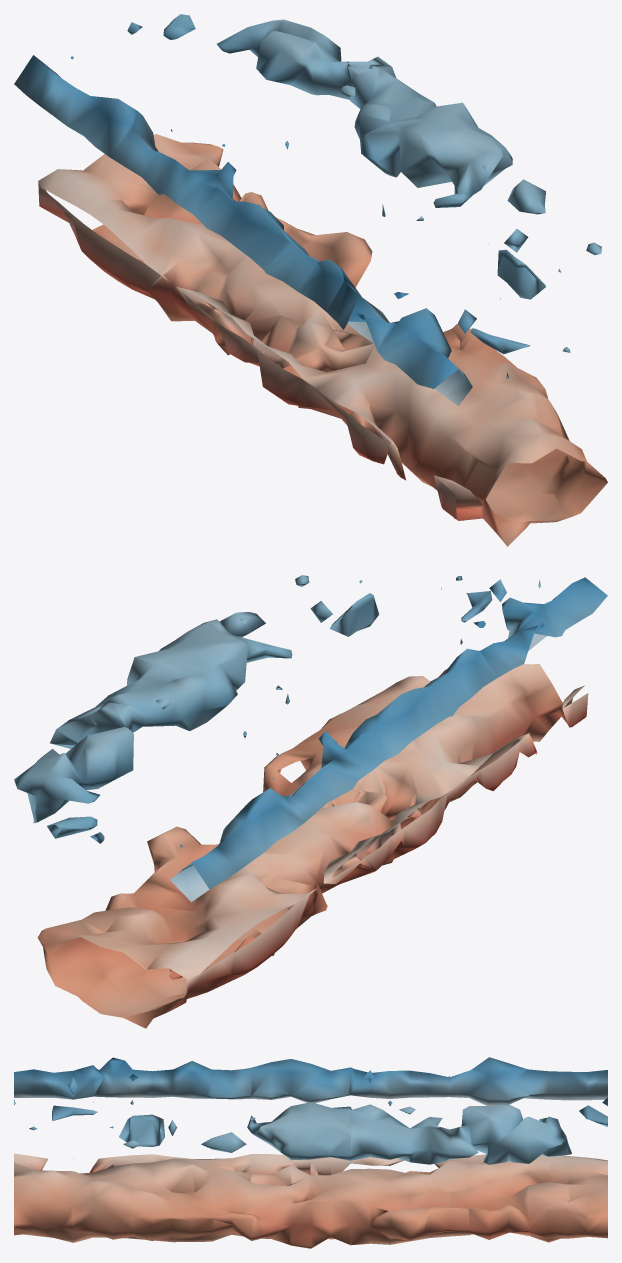
The picture shows the model from 3 angles, top to bottom: view 1: azimuth 30°, elevation 25°; view 2: azimuth 150°, elevation 25°; view 3: azimuth 270°, elevation 25°; orthographic projection. The views are drawn at different scales.
Bounding box in the file's own units: 0.947 × 0.787 × 2.5.
